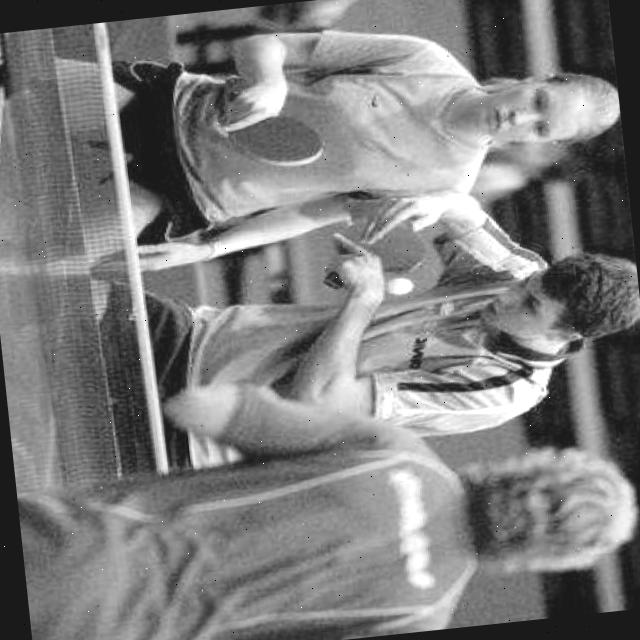ping-pong-ball: (382, 272, 423, 302)
